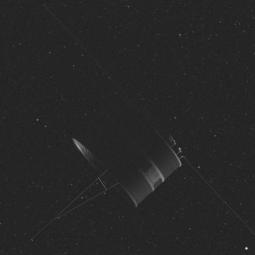double_start: (64, 84, 190, 220)
